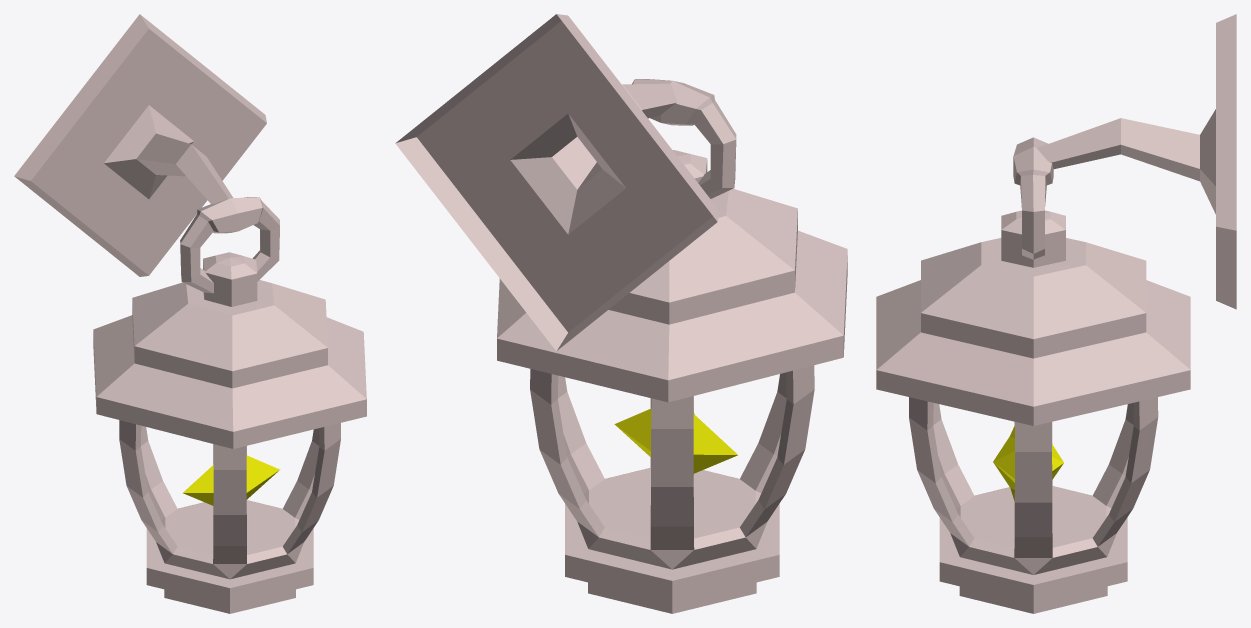
Rendered from wall lamp.fbx.
The picture shows the model from 3 angles, left to right: view 1: azimuth 30°, elevation 25°; view 2: azimuth 150°, elevation 25°; view 3: azimuth 270°, elevation 25°; orthographic projection. The views are drawn at different scales.
Visible parts, largest first — view 1: decoro angolo.001; view 2: decoro angolo.001; view 3: decoro angolo.001.
Part boxes in pixels (x1,y1,x2,y2): decoro angolo.001: [14, 14, 366, 613]; decoro angolo.001: [395, 14, 847, 613]; decoro angolo.001: [876, 14, 1236, 613].
Size of the model in its own units: 32.48 by 58.26 by 33.74.
